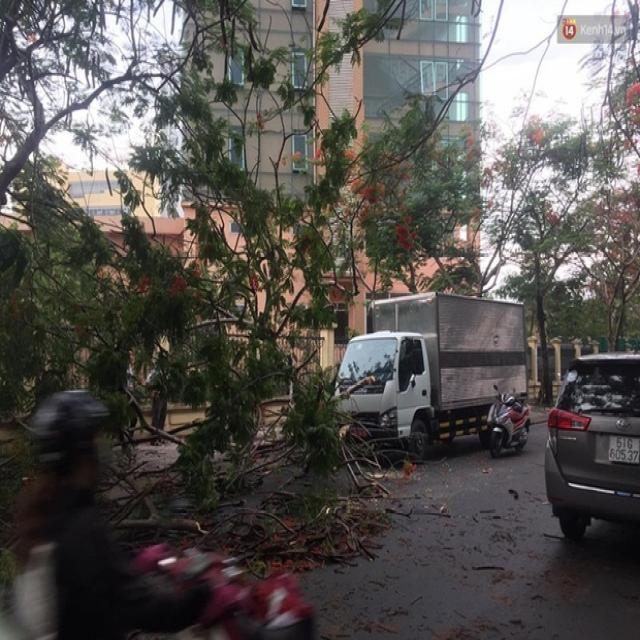fallen_object: (0, 357, 434, 566)
